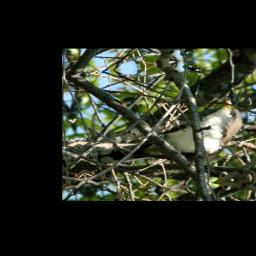Cuckoo: (80, 94, 250, 177)
